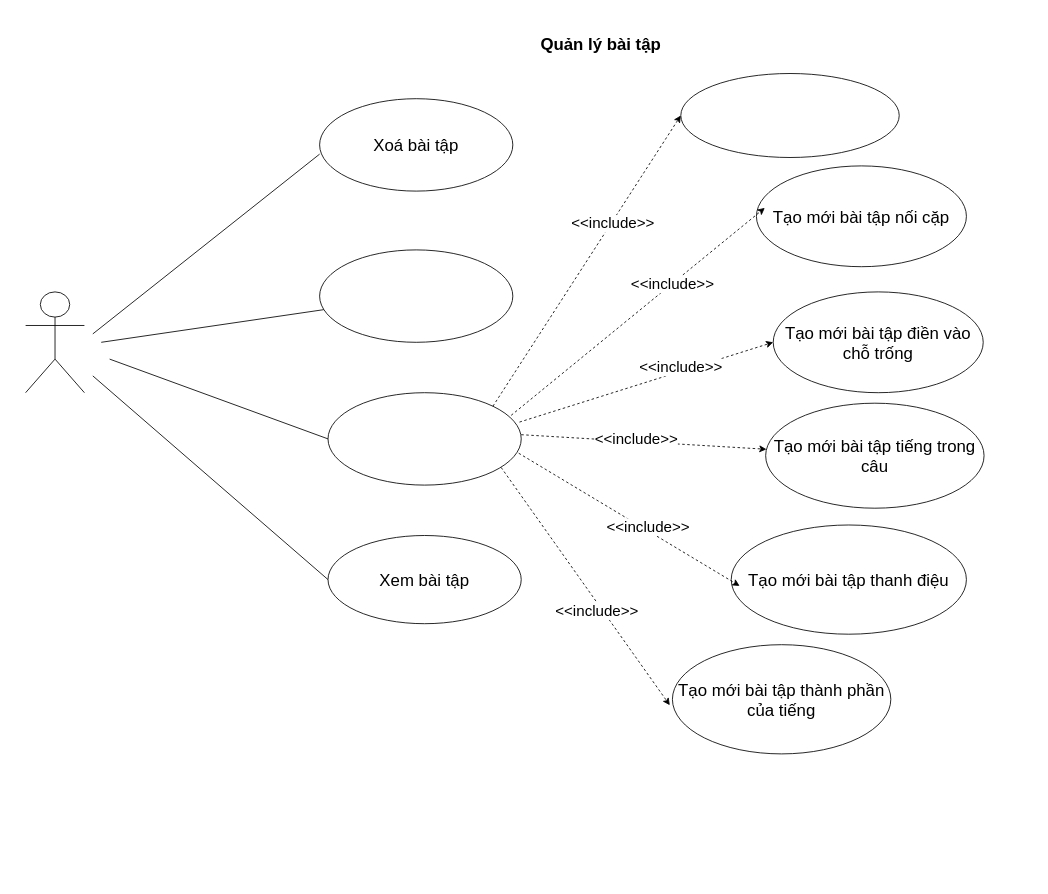
The diagram is 1048 pixels wide and 894 high, and some of its shapes have lost their labels. The shapes that lost their labels are listed below. From the top down, each one's centre as x and y in pixels, then its label:
At point (789, 115): "Tạo mới bài tập lựa chọn".
At point (416, 295): "Cập nhật bài tập".
At point (54, 342): "Người dùng".
At point (424, 438): "Tạo mới bài tập".
